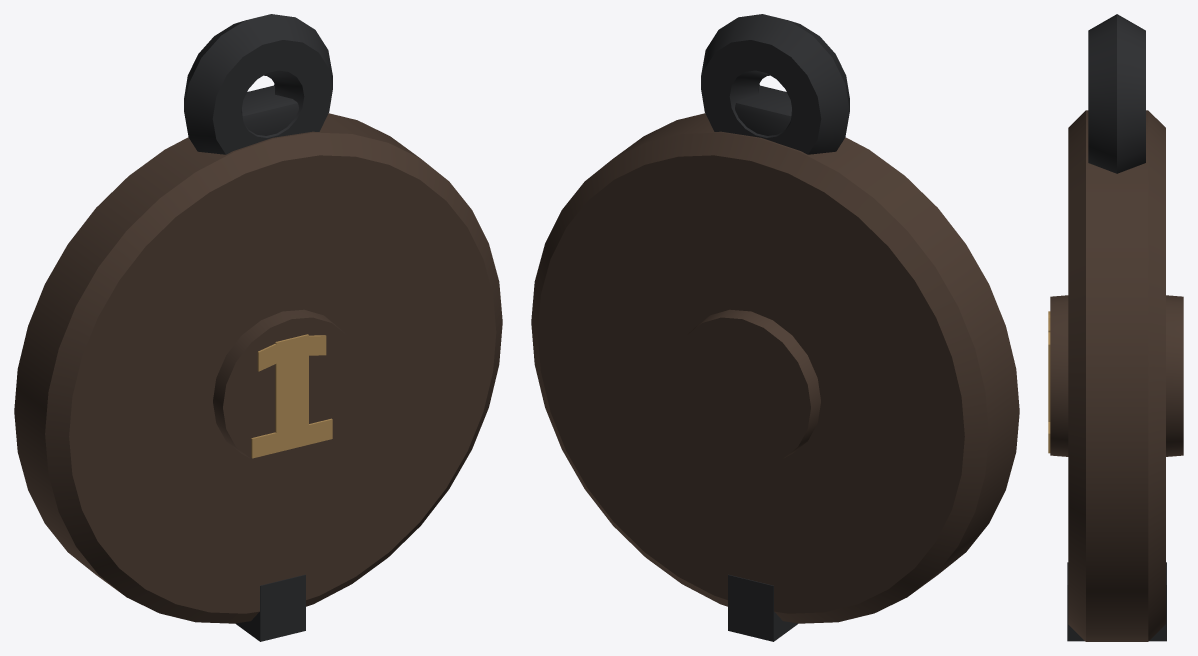
File: weight_1.glb
The picture shows the model from 3 angles, left to right: view 1: azimuth 30°, elevation 25°; view 2: azimuth 150°, elevation 25°; view 3: azimuth 270°, elevation 25°; orthographic projection.
Parts seen in each view (by area): view 1: weight_1; view 2: weight_1; view 3: weight_1.
Boxes of the visible parts, left/top/right/bottom form: weight_1: left=14, top=14, right=502, bottom=641; weight_1: left=531, top=14, right=1019, bottom=641; weight_1: left=1048, top=14, right=1183, bottom=641.
Size of the model in its own units: 0.12 by 0.1506 by 0.0305.
